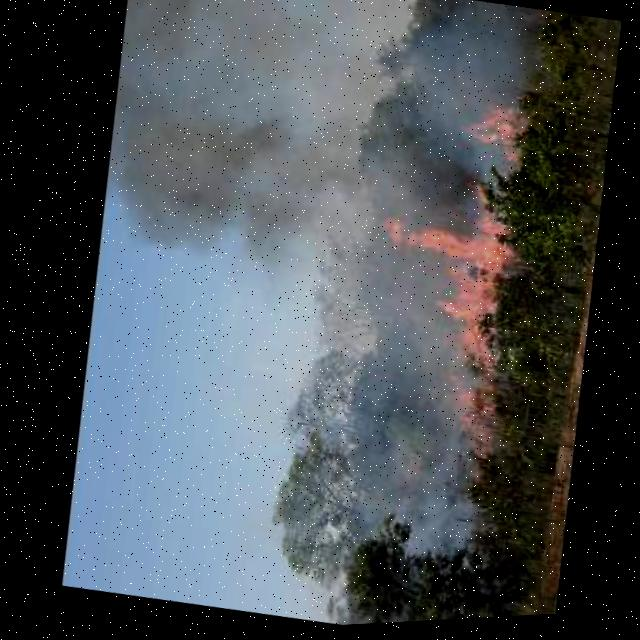Fire: (332, 203, 533, 455), (456, 94, 525, 168)
Smoke: (96, 0, 333, 273)
